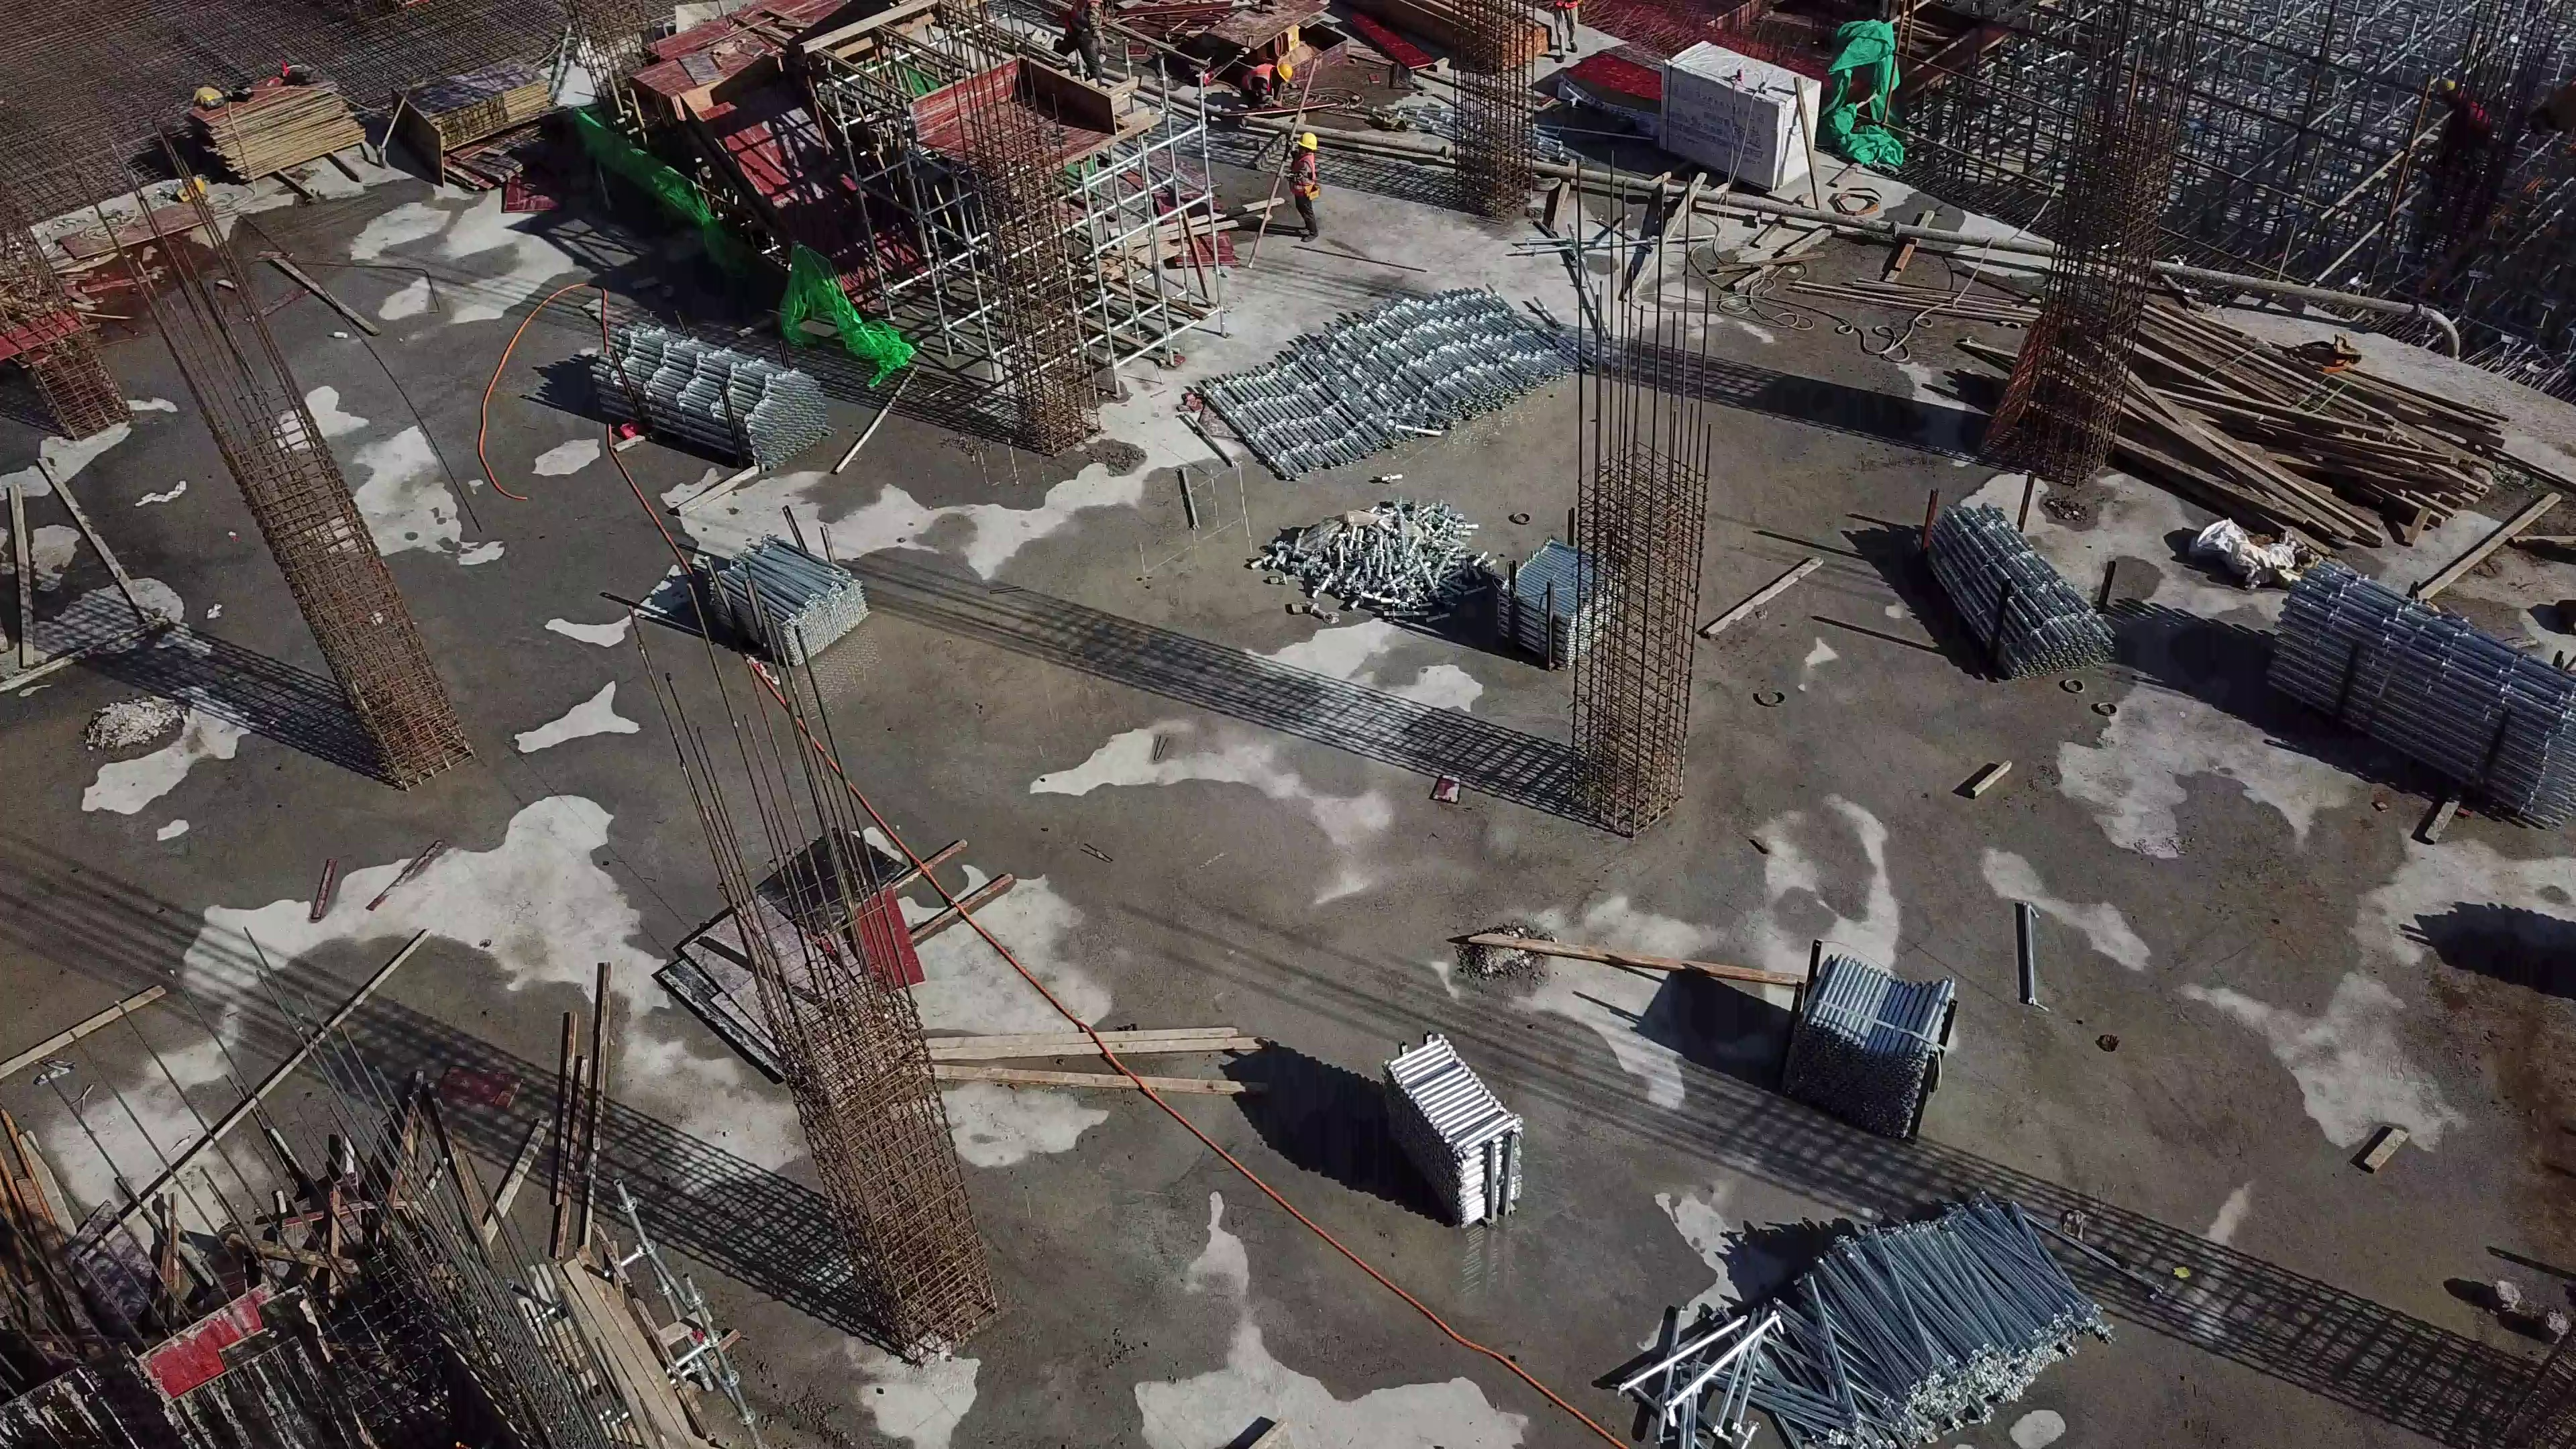board: (661, 838, 924, 1069), (177, 61, 378, 188), (396, 48, 561, 191)
helmet: (1276, 58, 1296, 87), (1293, 129, 1318, 148)
person: (1049, 1, 1112, 84), (1285, 126, 1324, 247), (1235, 62, 1296, 113)
scaffold: (1620, 1189, 2098, 1445), (2248, 552, 2576, 845), (1192, 280, 1600, 463), (562, 306, 820, 488), (1763, 946, 1982, 1152), (1921, 485, 2085, 702), (1375, 1037, 1541, 1249), (690, 535, 890, 665), (1293, 506, 1478, 631), (1481, 530, 1638, 665)
vest: (1287, 153, 1324, 200), (1241, 61, 1277, 92)
wood: (2092, 327, 2440, 510)
